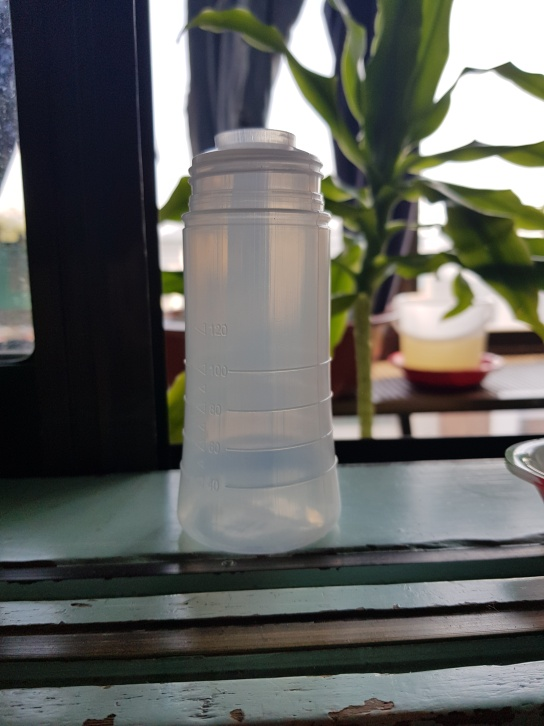Plastic: (173, 126, 348, 559)
